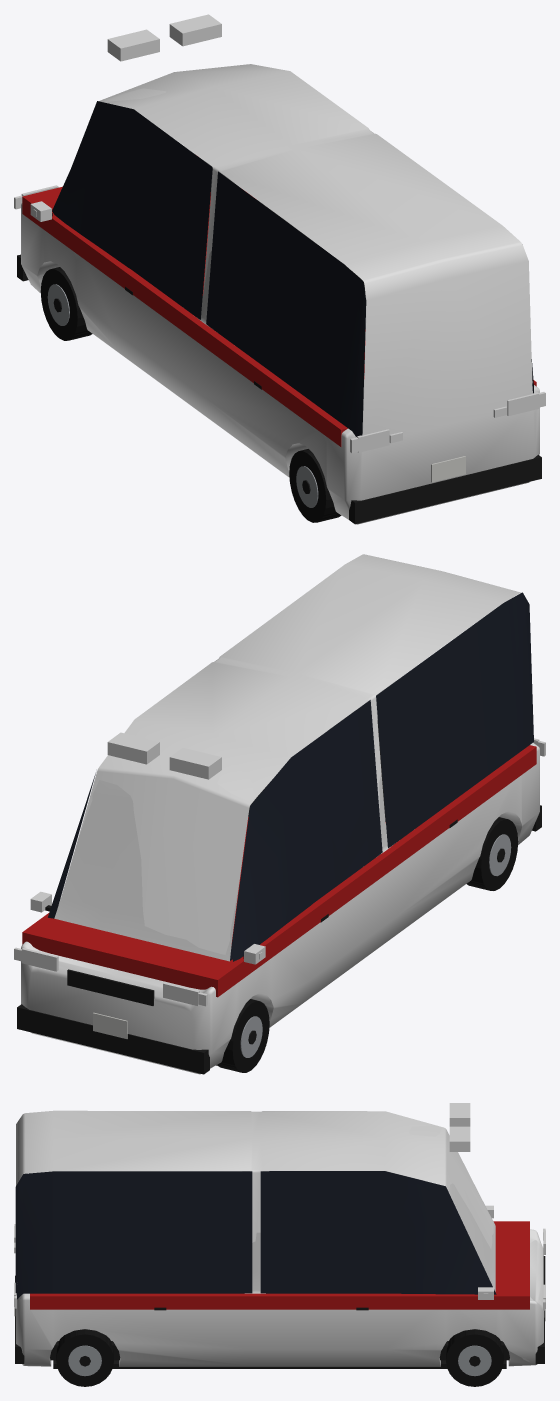
The model's file is amb.glb.
3 renders of one model, top to bottom at view 1: azimuth 30°, elevation 25°; view 2: azimuth 150°, elevation 25°; view 3: azimuth 270°, elevation 25°, orthographic. The views are drawn at different scales.
Parts seen in each view (by area): view 1: body_1, detail_1, detail_0, body_0, light_beacon_0_12, light_beacon_0_13; view 2: body_1, detail_1, detail_0, body_0, light_beacon_0_12, light_beacon_0_13, light_head_0_6; view 3: body_1, detail_0, detail_1, body_0, light_beacon_0_13, light_beacon_0_12.
Part boxes in pixels (box(x1,y1,x2,y2)): body_1: box(21, 64, 539, 524); detail_1: box(41, 101, 533, 522); detail_0: box(17, 135, 541, 524); body_0: box(30, 88, 534, 470); light_beacon_0_12: box(107, 29, 159, 61); light_beacon_0_13: box(169, 14, 221, 46); body_1: box(21, 554, 539, 1074); detail_1: box(48, 592, 533, 1069); detail_0: box(17, 596, 541, 1074); body_0: box(30, 593, 519, 1021); light_beacon_0_12: box(169, 747, 221, 779); light_beacon_0_13: box(107, 732, 159, 764); light_head_0_6: box(21, 948, 58, 971); body_1: box(16, 1110, 543, 1366); detail_0: box(14, 1173, 545, 1386); detail_1: box(15, 1171, 501, 1384); body_0: box(20, 1125, 542, 1365); light_beacon_0_13: box(449, 1126, 470, 1151); light_beacon_0_12: box(449, 1103, 470, 1126).
Size of the model in its own units: 2.19 by 2.69 by 5.69.
